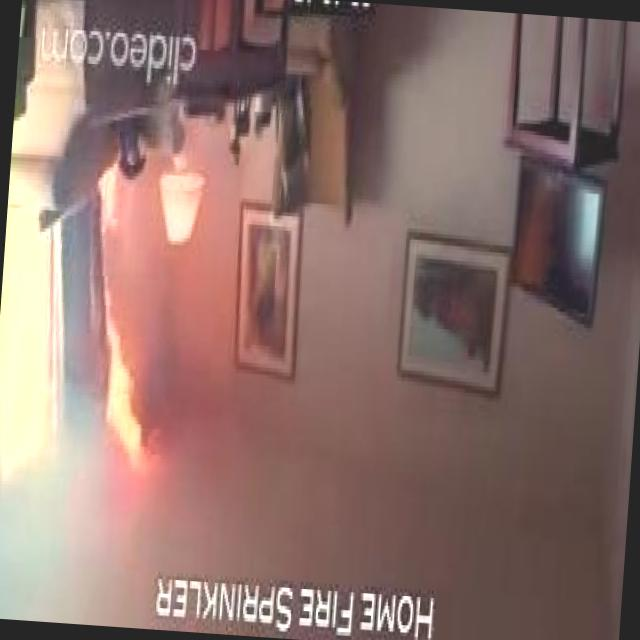fire: (49, 239, 194, 498)
